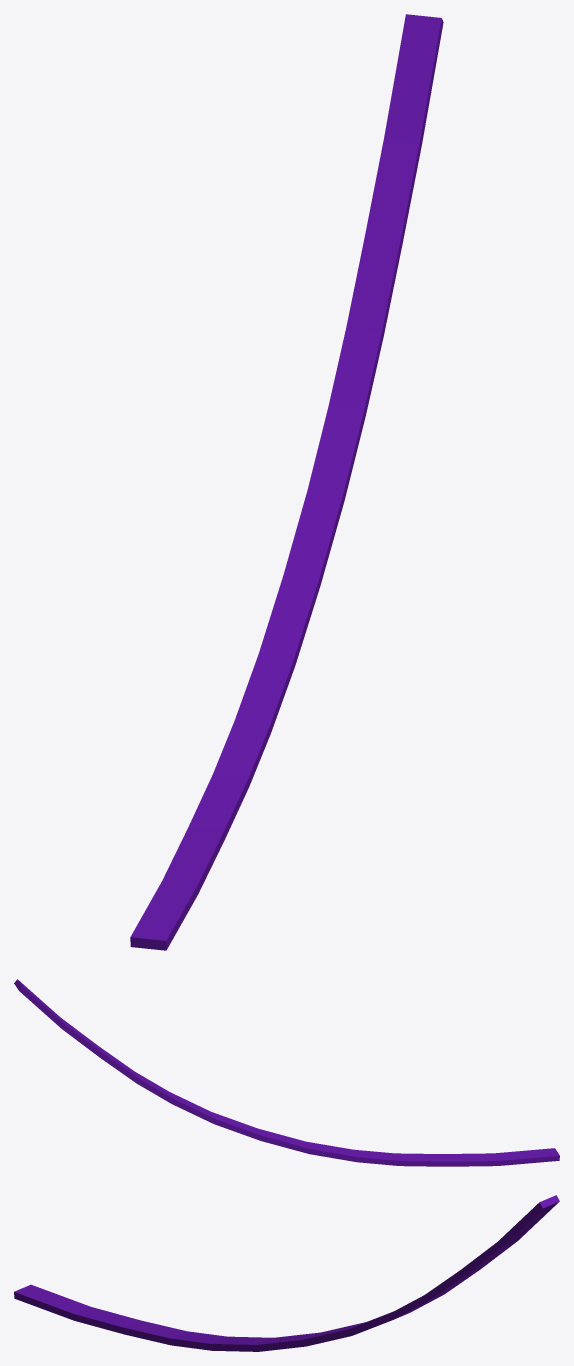
The model's file is Tape_17.fbx.
The picture shows the model from 3 angles, top to bottom: view 1: azimuth 30°, elevation 25°; view 2: azimuth 150°, elevation 25°; view 3: azimuth 270°, elevation 25°; orthographic projection. The views are drawn at different scales.
Visible parts, largest first — view 1: Tape_17; view 2: Tape_17; view 3: Tape_17.
Boxes of the visible parts, left/top/right/bottom form: Tape_17: left=130, top=14, right=443, bottom=950; Tape_17: left=14, top=979, right=559, bottom=1166; Tape_17: left=14, top=1195, right=559, bottom=1351.
Size of the model in its own units: 528 by 342 by 541.
